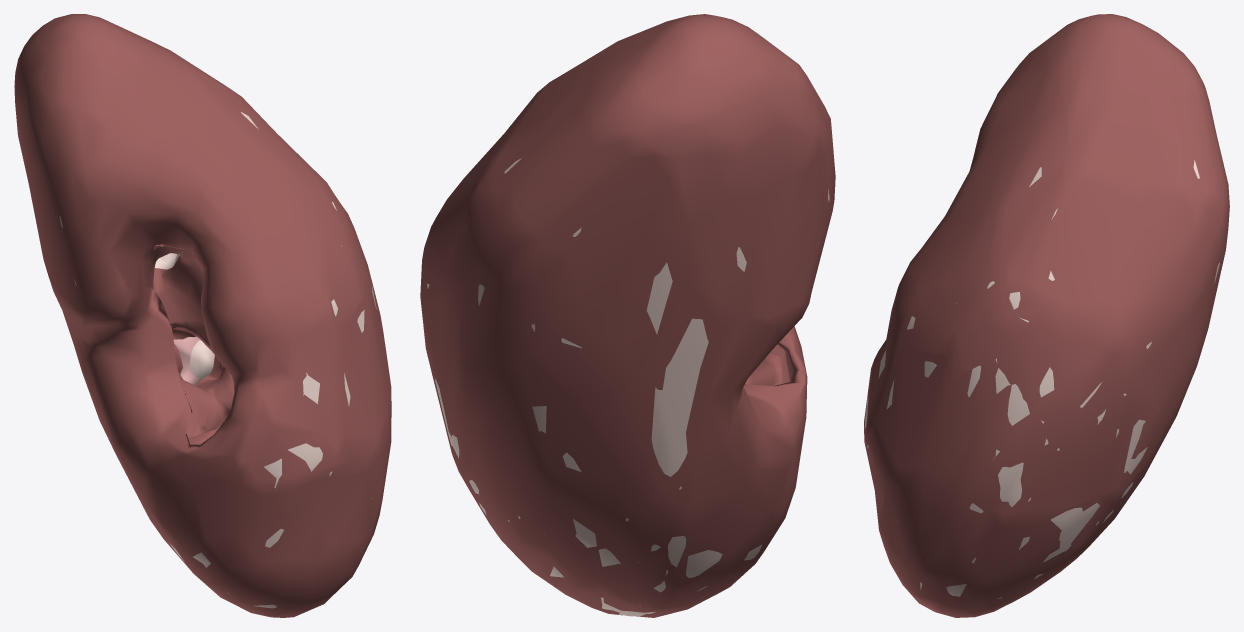
The model's file is kidney-left-female.lod1.glb.
3 views of the same model, side by side, from view 1: azimuth 30°, elevation 25°; view 2: azimuth 150°, elevation 25°; view 3: azimuth 270°, elevation 25° (orthographic). The views are drawn at different scales.
Parts seen in each view (by area): view 1: VH_F_kidney_capsule_L, VH_F_hilum_of_kidney_L, VH_F_outer_cortex_of_kidney_L, VH_F_renal_papilla_L_g, VH_F_renal_pyramid_L_g; view 2: VH_F_kidney_capsule_L, VH_F_outer_cortex_of_kidney_L, VH_F_hilum_of_kidney_L; view 3: VH_F_kidney_capsule_L, VH_F_outer_cortex_of_kidney_L.
Part boxes in pixels (bbox=[...]): VH_F_kidney_capsule_L: bbox=[14, 14, 391, 617]; VH_F_hilum_of_kidney_L: bbox=[124, 246, 234, 444]; VH_F_outer_cortex_of_kidney_L: bbox=[59, 112, 376, 608]; VH_F_renal_papilla_L_g: bbox=[190, 340, 214, 378]; VH_F_renal_pyramid_L_g: bbox=[173, 336, 201, 385]; VH_F_kidney_capsule_L: bbox=[420, 14, 835, 617]; VH_F_outer_cortex_of_kidney_L: bbox=[423, 158, 829, 616]; VH_F_hilum_of_kidney_L: bbox=[745, 345, 790, 386]; VH_F_kidney_capsule_L: bbox=[864, 14, 1229, 617]; VH_F_outer_cortex_of_kidney_L: bbox=[864, 160, 1219, 598].
Size of the model in its own units: 0.0731 by 0.1248 by 0.0774.
